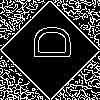D: (25, 25, 70, 61)
